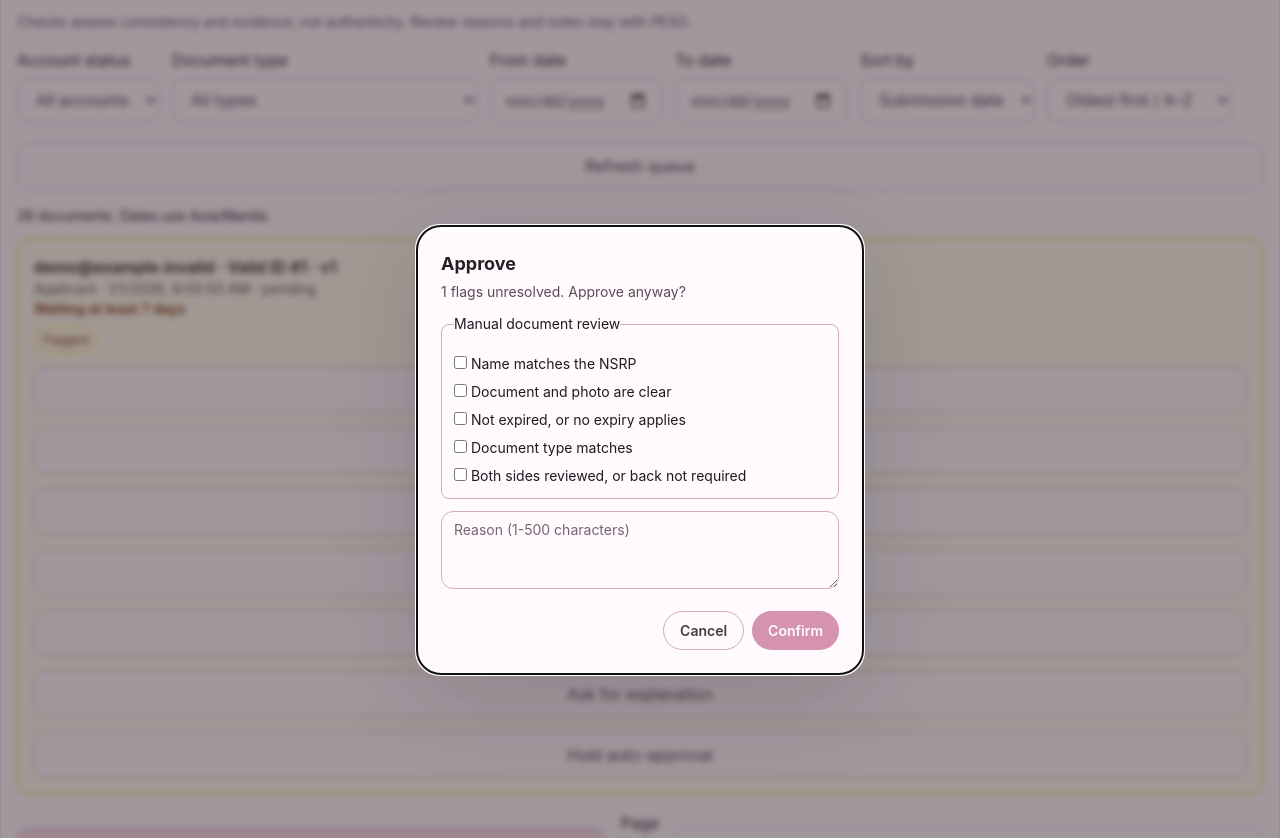
Test case: requires a reason and explicit unresolved flag confirmation before approving
Earlier steps of the test are not shown.
(page scrolled)
Expected: the text "1 flags unresolved. Approve anyway?" is shown, [441, 283, 686, 300]
Expected: the button "Confirm" is disabled, [752, 611, 839, 650]
Type "Original document reviewed" into the text box labelled "Reason". click: [640, 550]
box: [441, 511, 839, 589]
Click the checkbox labelled "Name matches the NSRP". click: [460, 362]
box: [454, 356, 467, 369]
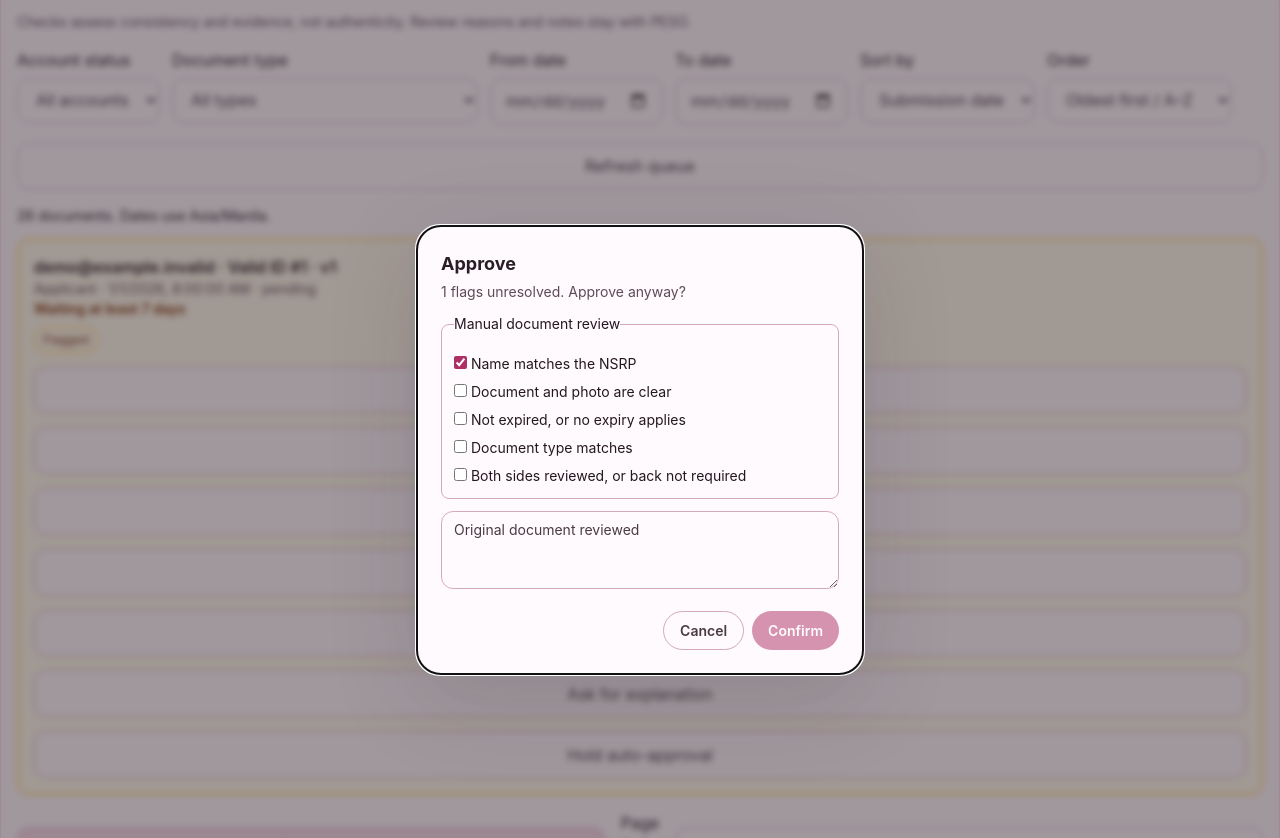
Click the checkbox labelled "Document and photo are clear". click: [460, 390]
box: [454, 384, 467, 397]
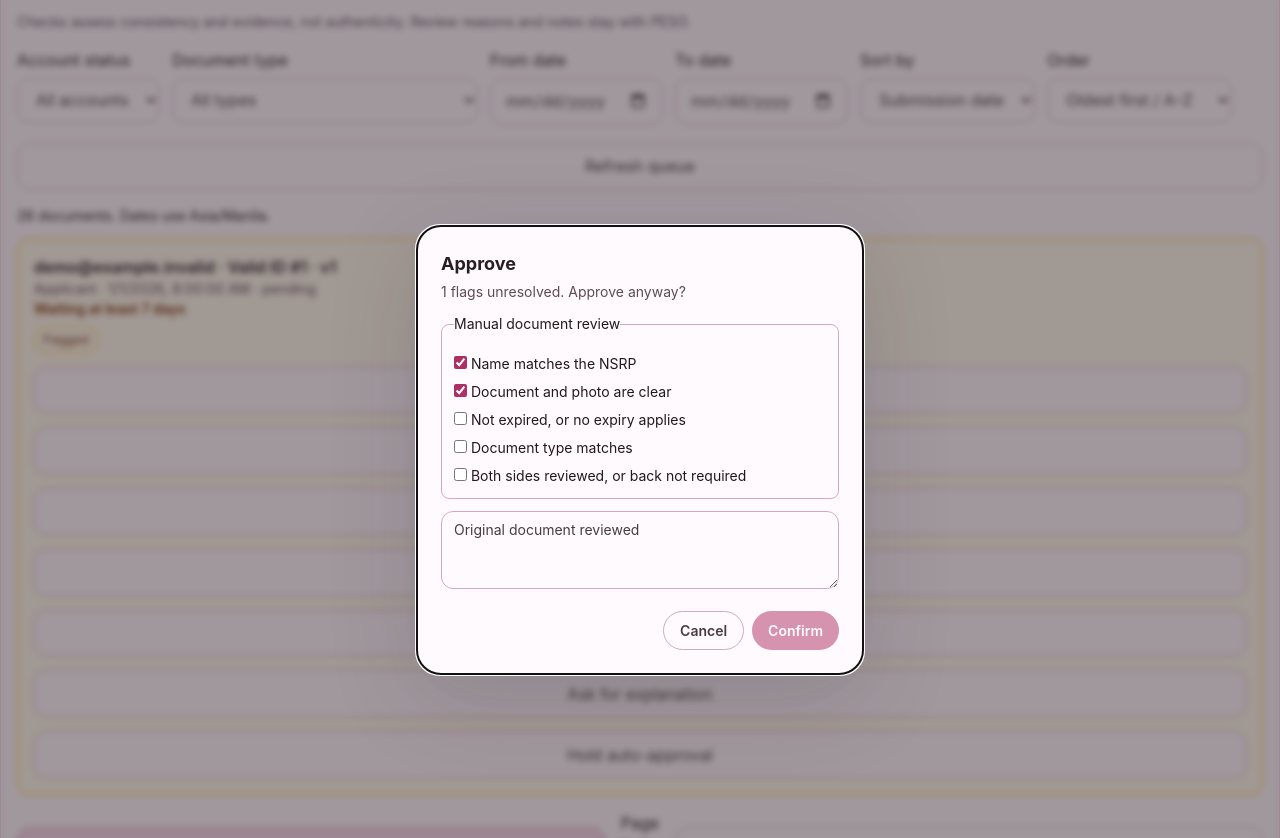
Click the checkbox labelled "Not expired, or no expiry applies". click: [460, 418]
box: [454, 412, 467, 425]
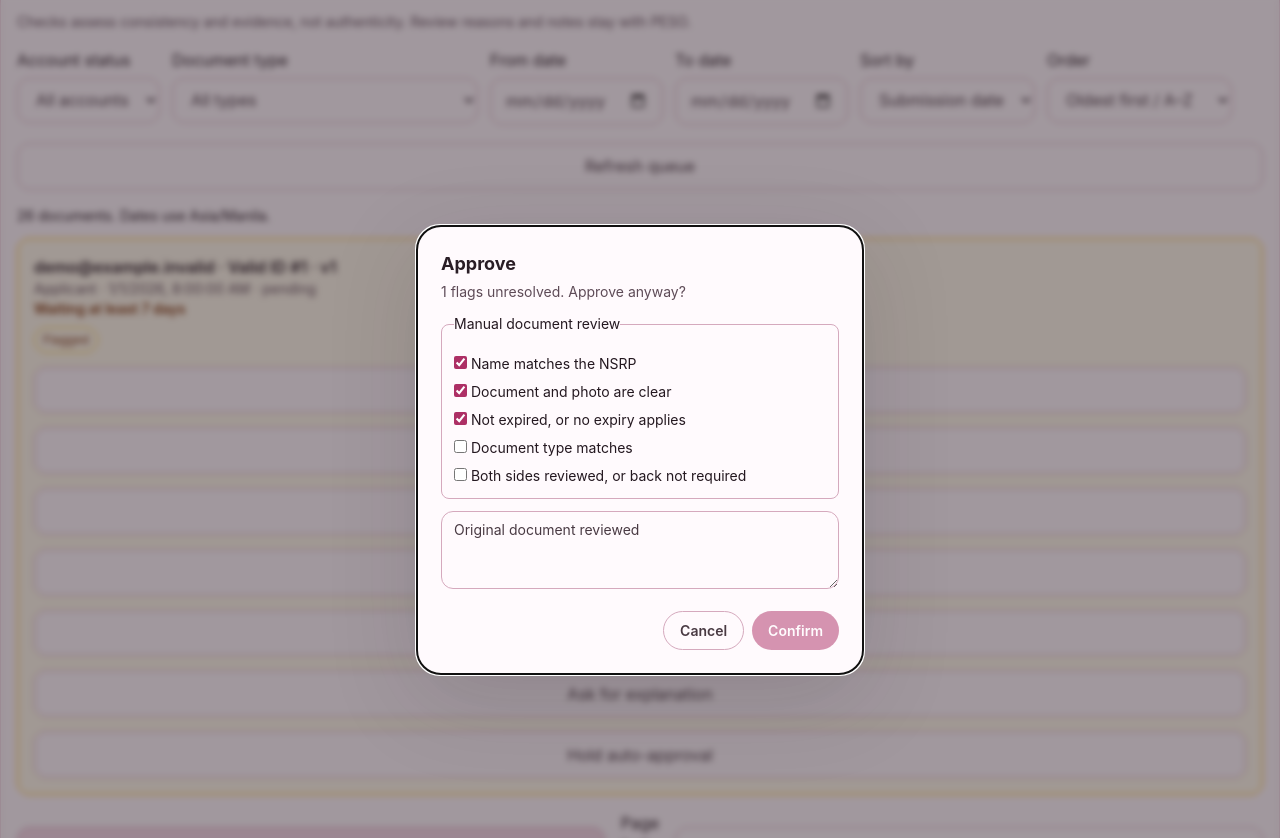
Click the checkbox labelled "Document type matches". click: [460, 446]
box: [454, 440, 467, 453]
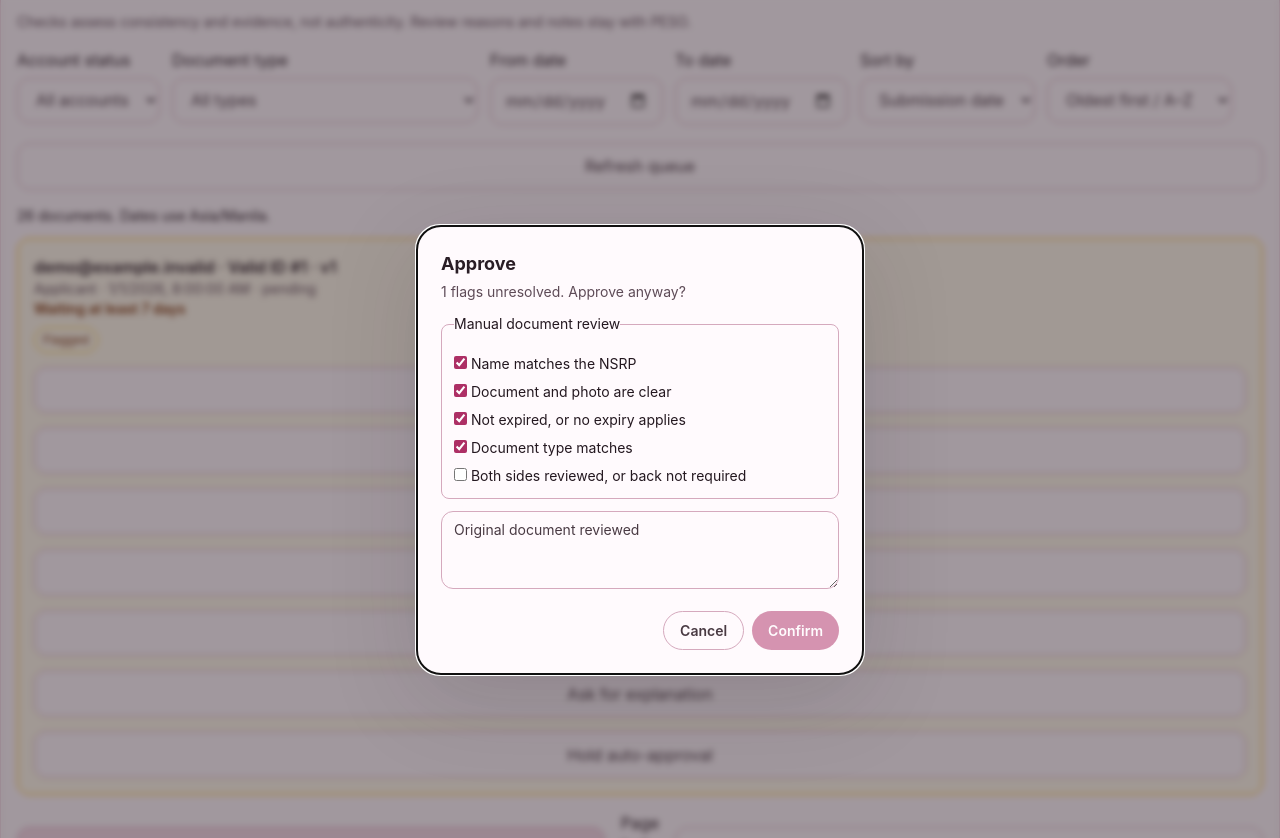
Click the checkbox labelled "Both sides reviewed, or back not required". click: [460, 474]
box: [454, 468, 467, 481]
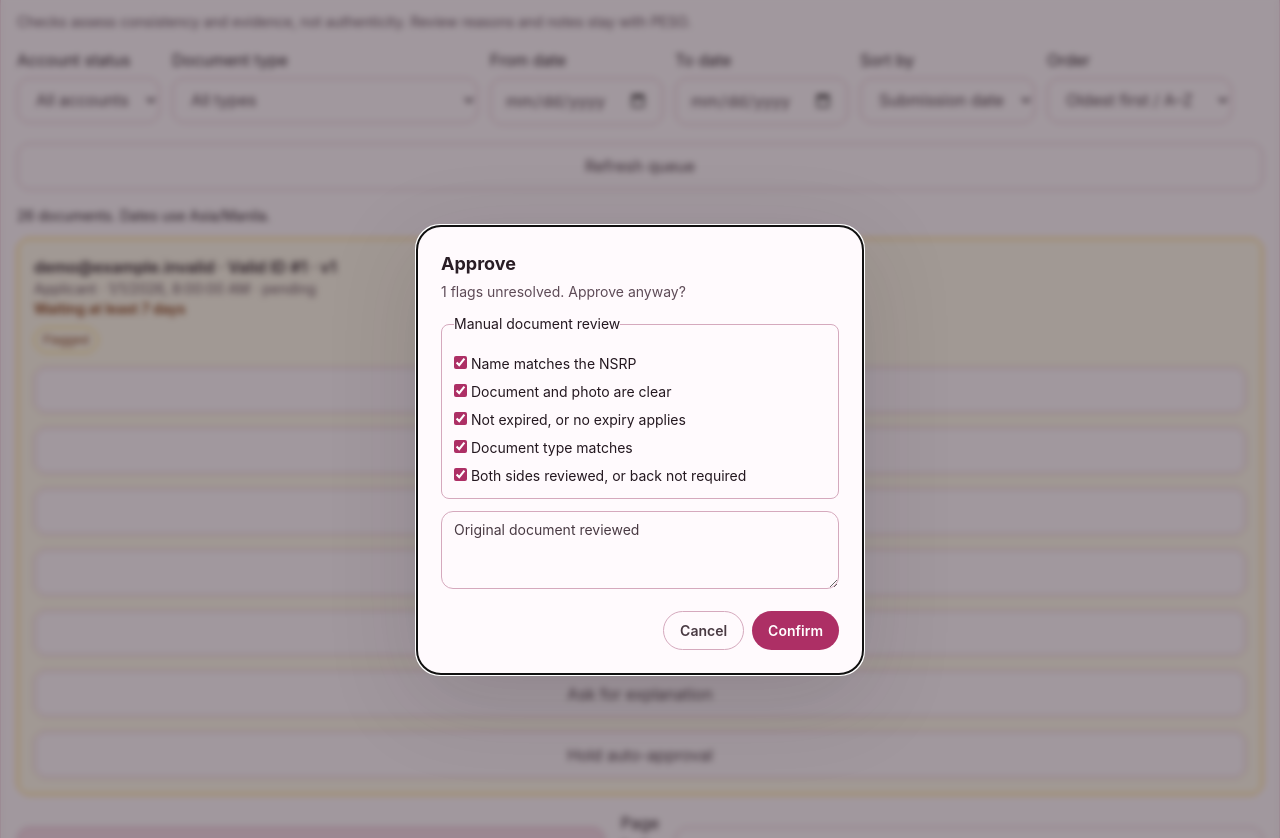
Click the button "Confirm". click: [796, 630]
box: [752, 611, 839, 650]
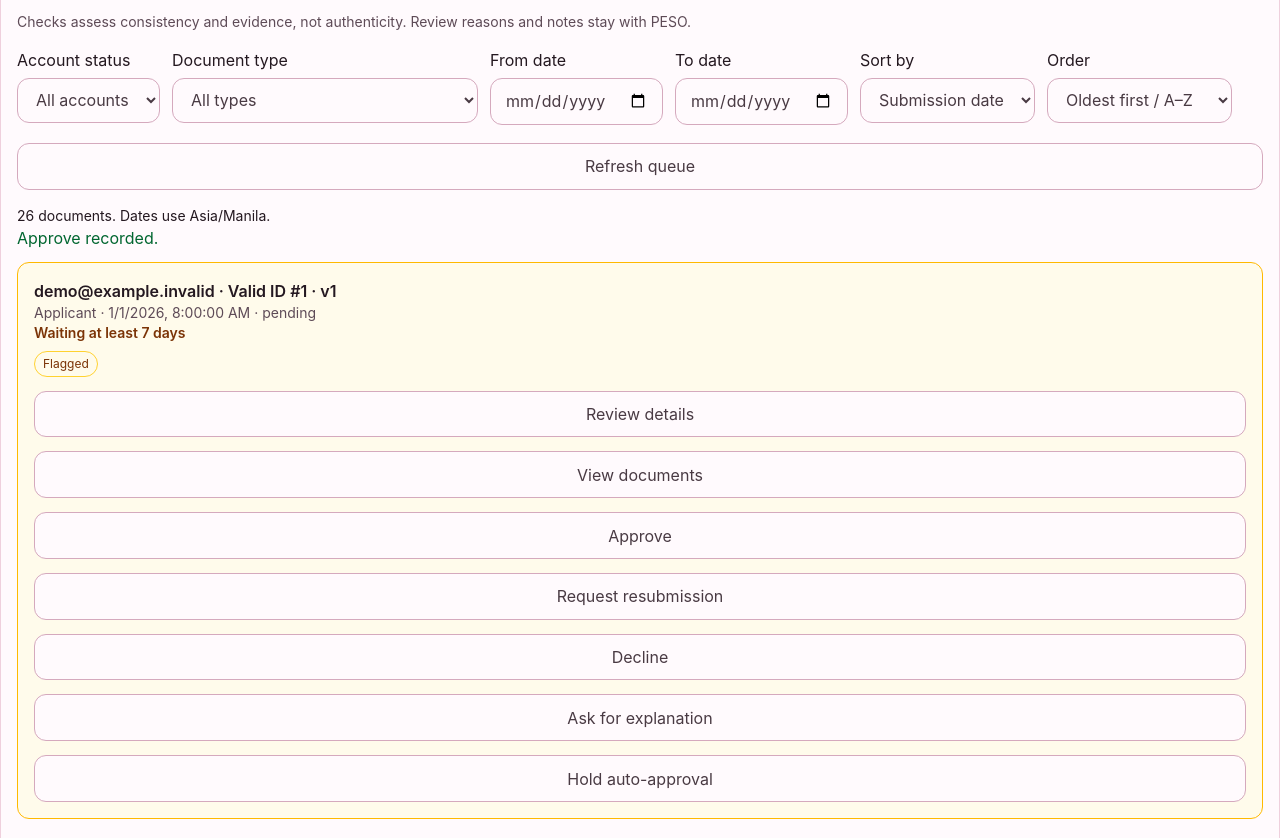
Result: the text "Approve recorded." is shown at [17, 228, 158, 248]
